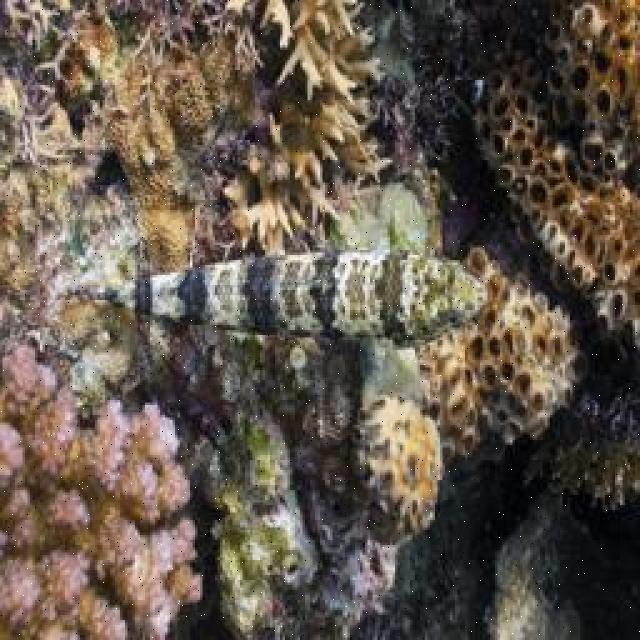fish: (111, 249, 492, 352)
reefs: (0, 344, 203, 638), (475, 40, 638, 330), (216, 0, 396, 255), (415, 244, 586, 481), (549, 0, 638, 180), (114, 2, 264, 99), (354, 395, 442, 533), (13, 67, 80, 177), (40, 0, 97, 82), (2, 0, 64, 55)
sea-floor: (183, 409, 317, 636)
